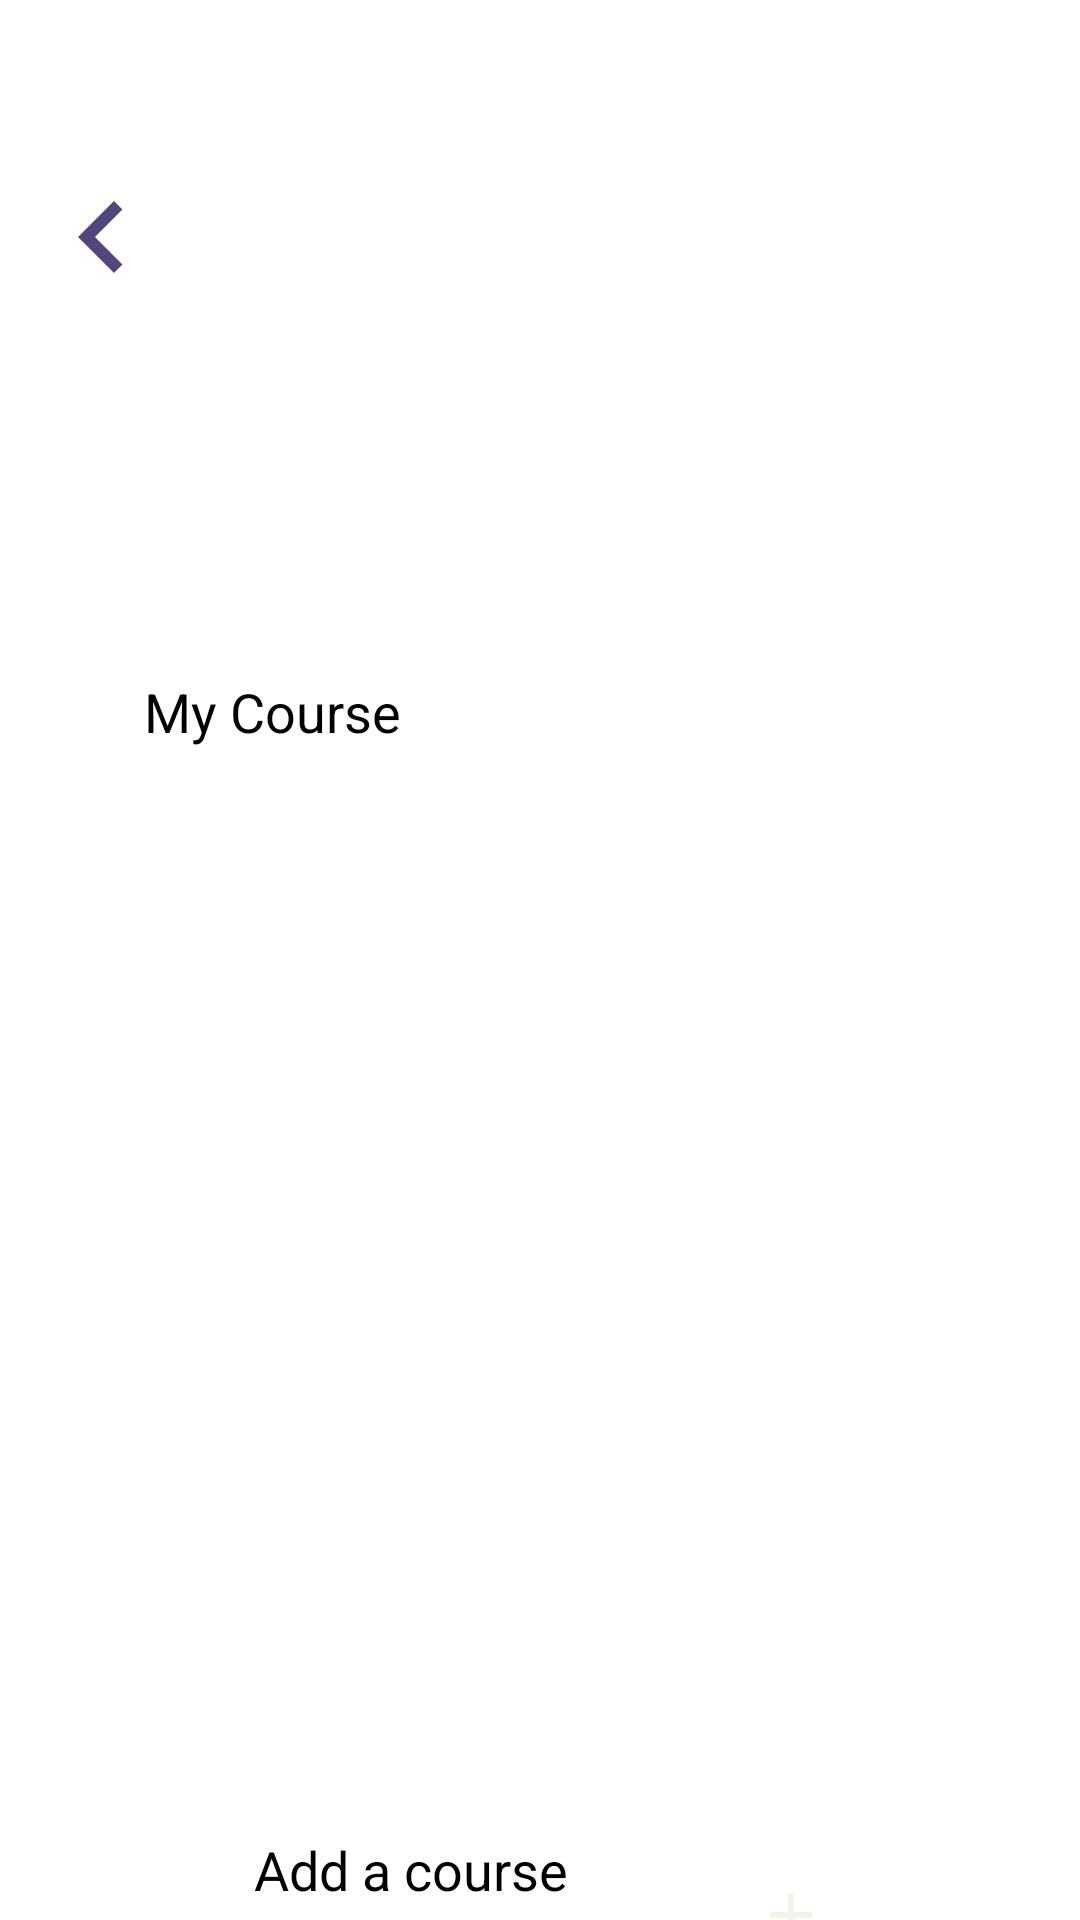

Locate icon controls on the screen. Image size 1080 x 1920, boxes as (x1, y1, x2, y2).
Back: (78, 201, 123, 273)
